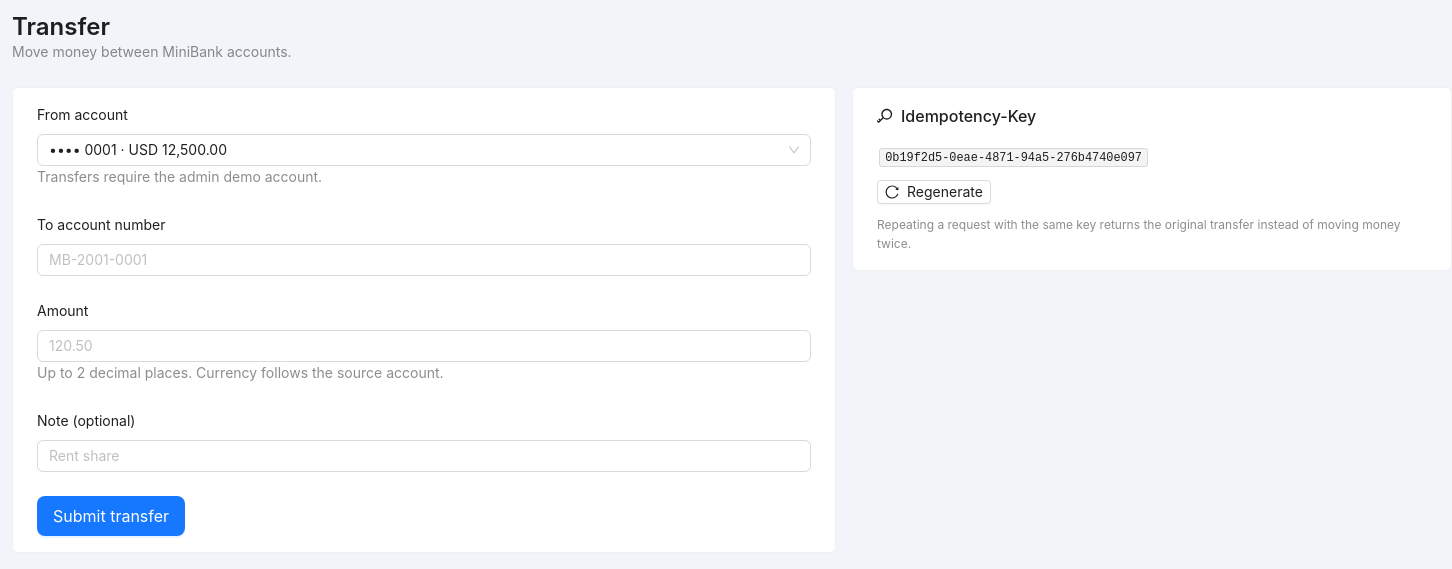
it: TransferPage › validates the required fields
Check: the text "•••• 0001 · USD 12,500.00" is shown, box left=49, top=141, right=227, bottom=158
Click the button "Submit transfer": (111, 516) left=37, top=496, right=185, bottom=536
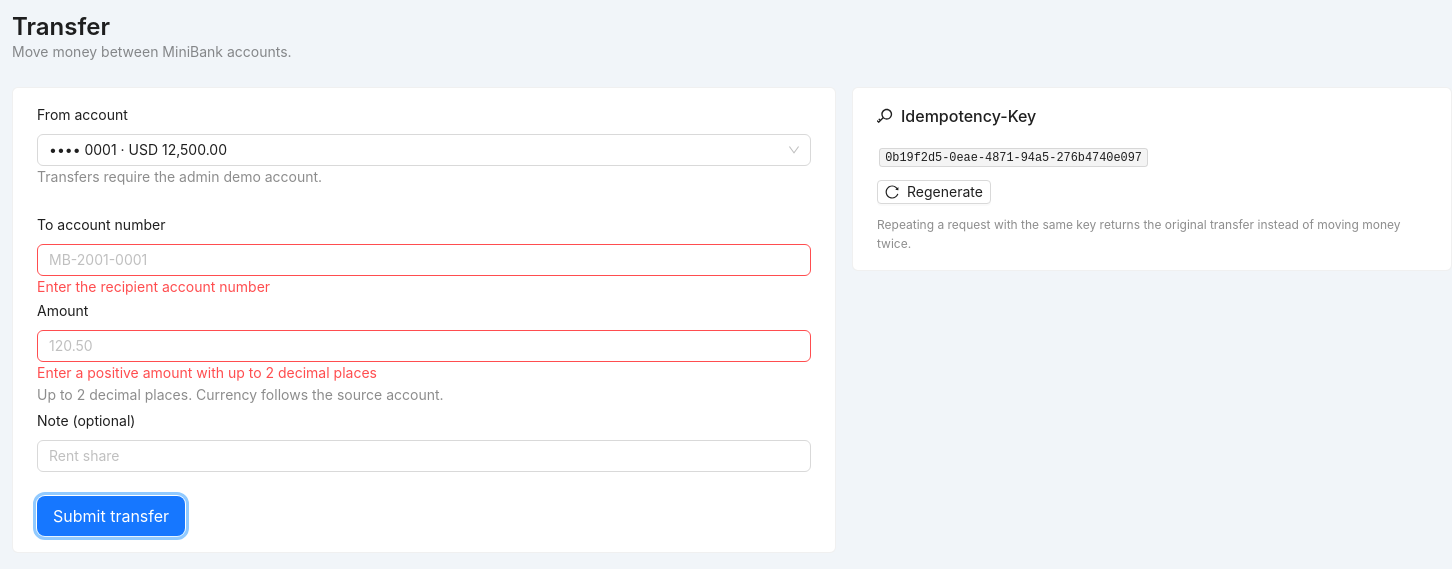
Check: the text "Enter the recipient account number" is shown, box left=37, top=278, right=270, bottom=295
Check: the text "Enter a positive amount with up to 2 decimal places" is shown, box left=37, top=364, right=377, bottom=381
